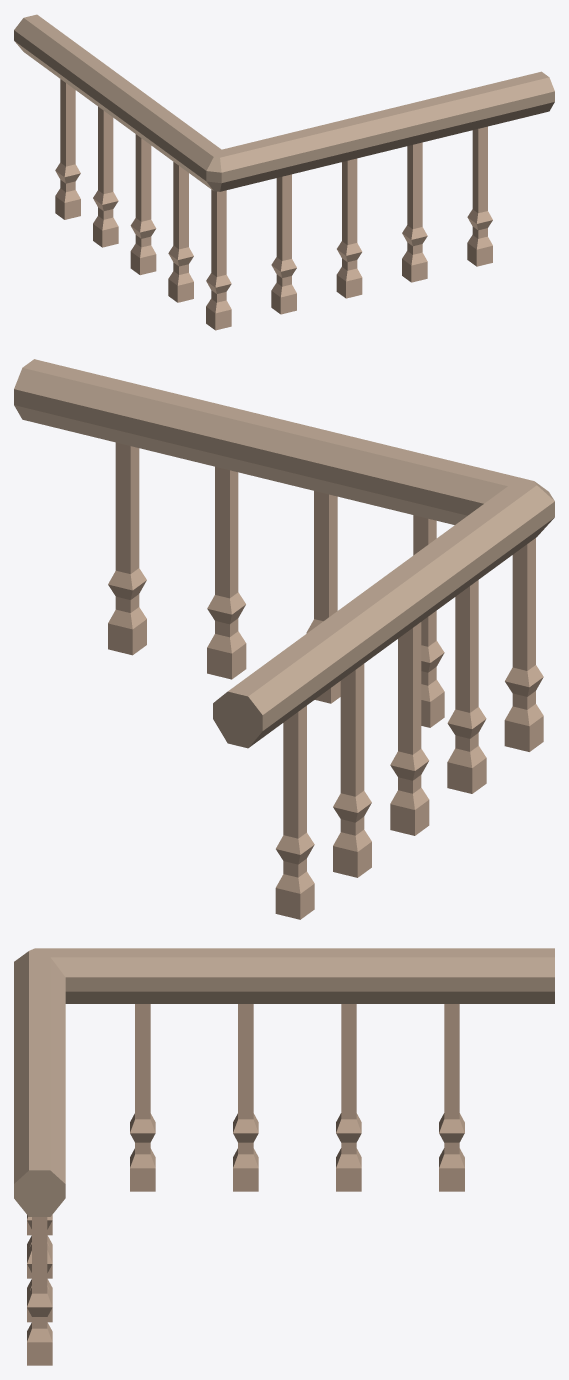
File: Structure_Stairs_Railing_Landing_Corner.glb
3 renders of one model, top to bottom at view 1: azimuth 30°, elevation 25°; view 2: azimuth 150°, elevation 25°; view 3: azimuth 270°, elevation 25°, orthographic. The views are drawn at different scales.
Visible parts, largest first — view 1: Structure_Stairs_Railing_Landing_Corner; view 2: Structure_Stairs_Railing_Landing_Corner; view 3: Structure_Stairs_Railing_Landing_Corner.
Part boxes in pixels (bbox=[...]): Structure_Stairs_Railing_Landing_Corner: bbox=[14, 14, 554, 330]; Structure_Stairs_Railing_Landing_Corner: bbox=[14, 359, 554, 919]; Structure_Stairs_Railing_Landing_Corner: bbox=[14, 948, 554, 1365].
Bounding box in the file's own units: 1.05 × 0.5 × 1.05.
